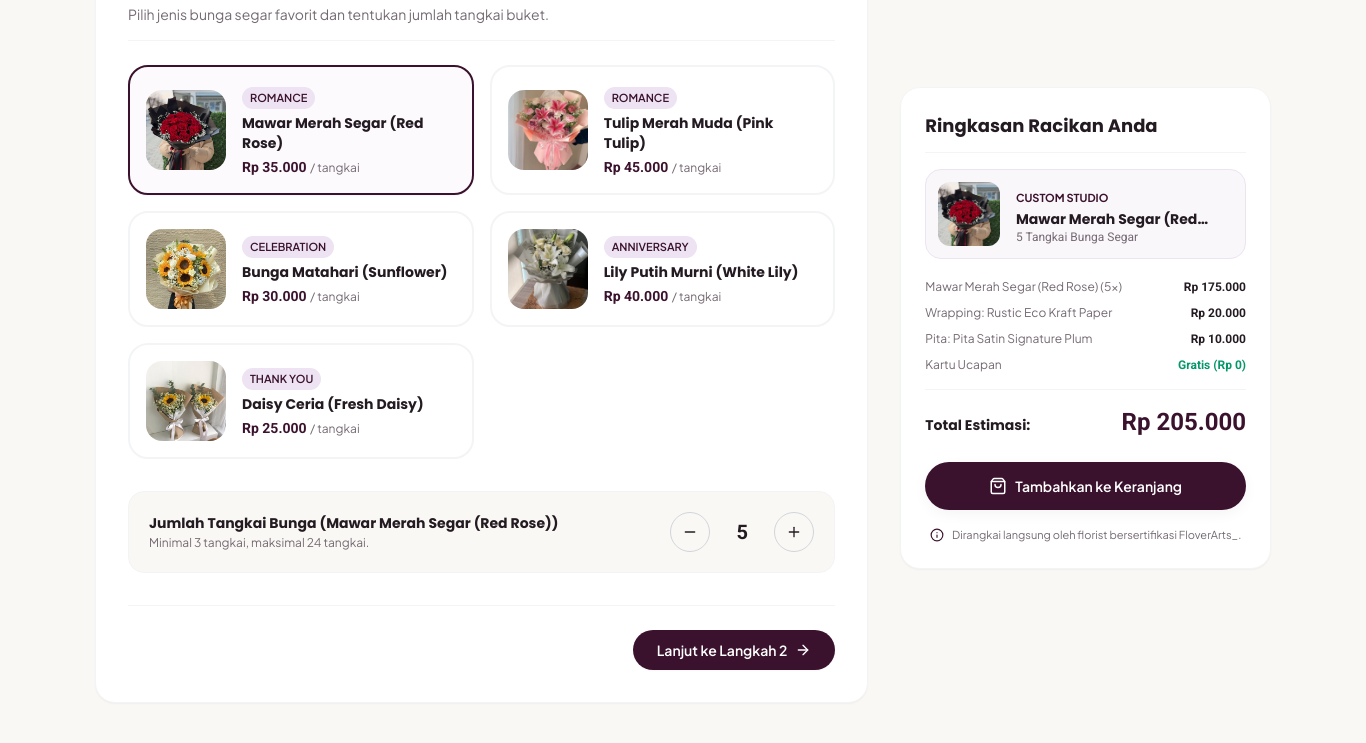
it: CustomBouquetPage Component › dapat mengubah jumlah tangkai bunga dan harga terupdate
The width and height of the screenshot is (1366, 743).
(page scrolled)
Expected: the text "Rp 205.000" is shown, [1122, 406, 1246, 438]
Click the 3rd button at coordinates (794, 532), box [774, 512, 814, 552]
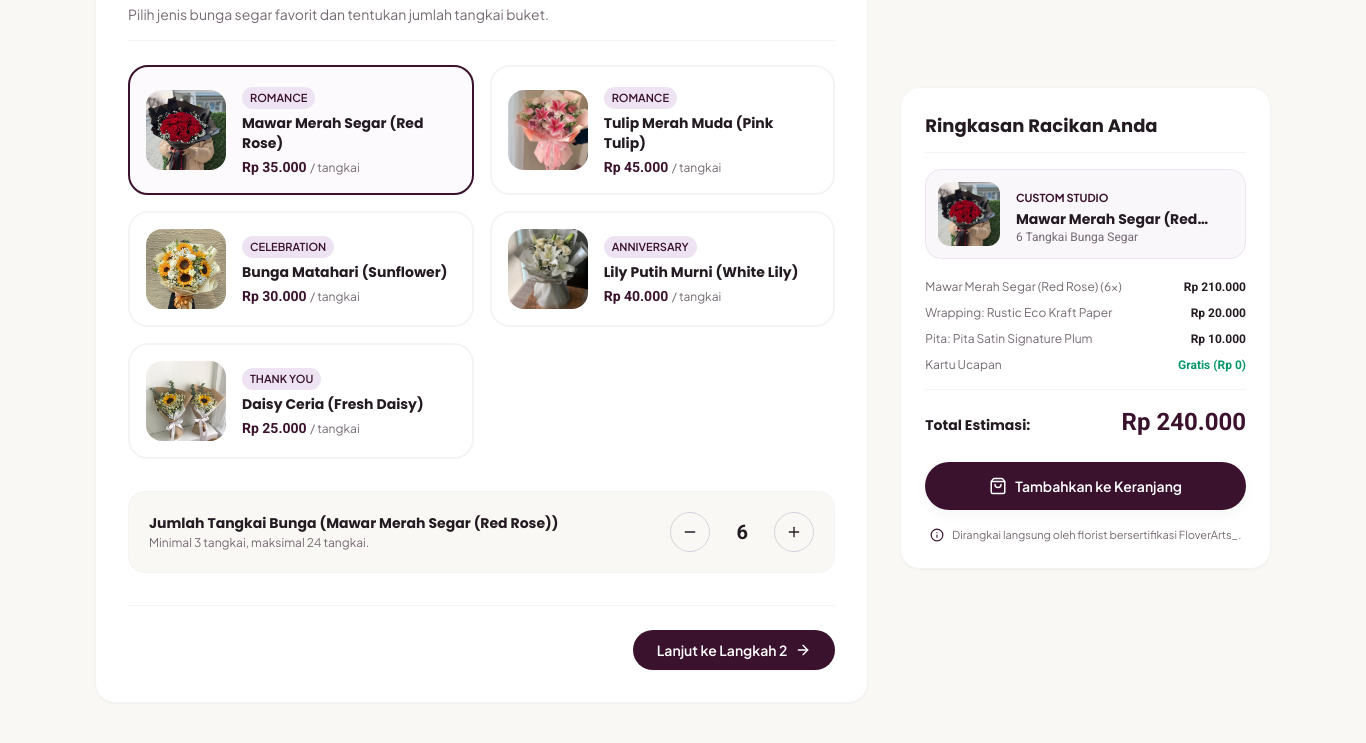
Expected: the text "Rp 240.000" is shown, [1122, 406, 1246, 438]
